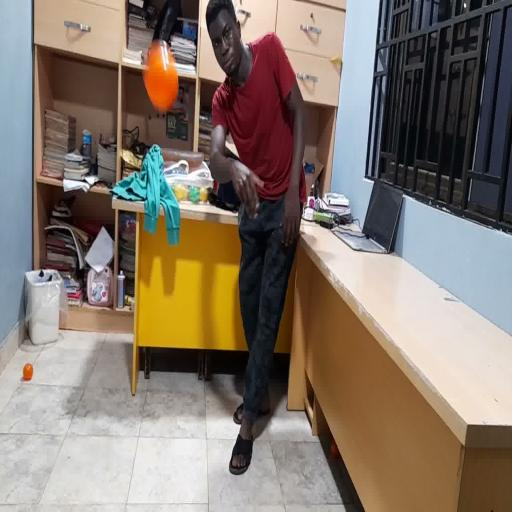plastic-ball: (143, 40, 178, 111)
